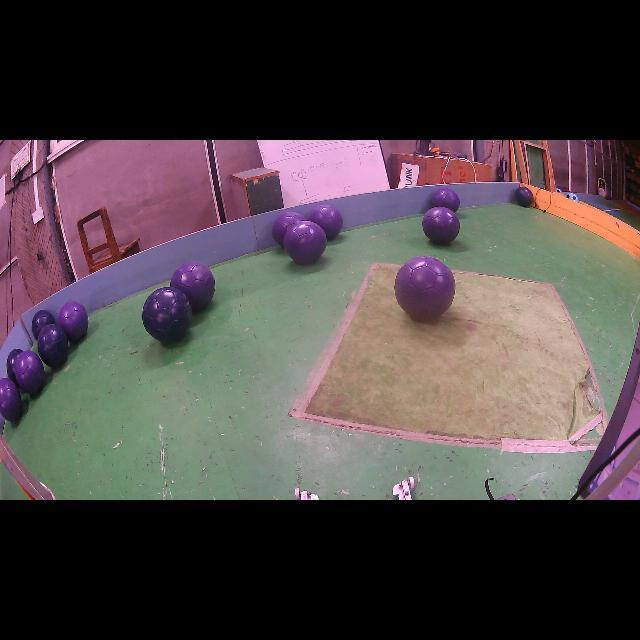B: (142, 288, 192, 342), (38, 324, 68, 368), (31, 310, 55, 340), (6, 349, 22, 388), (515, 186, 534, 208)
P: (395, 256, 455, 320), (170, 261, 215, 310), (284, 221, 326, 265), (422, 206, 460, 245), (15, 350, 45, 394), (308, 205, 344, 240), (58, 301, 89, 341), (272, 211, 306, 247), (0, 378, 22, 421), (431, 189, 460, 212)
